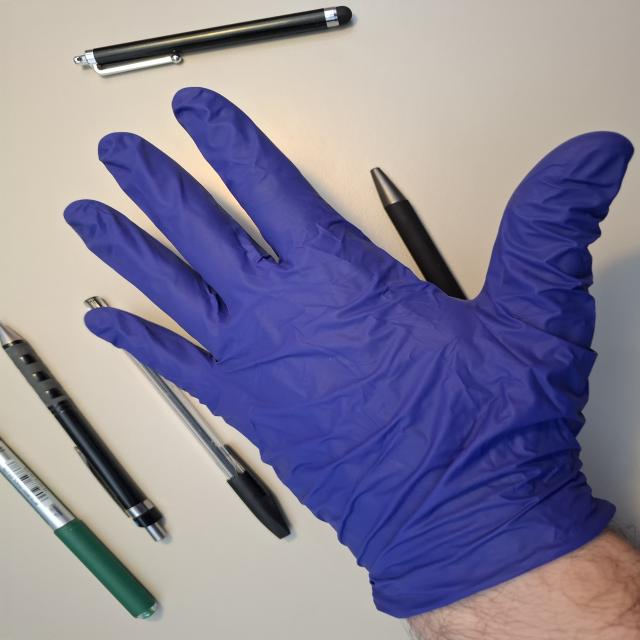glove_on: (59, 84, 638, 603)
